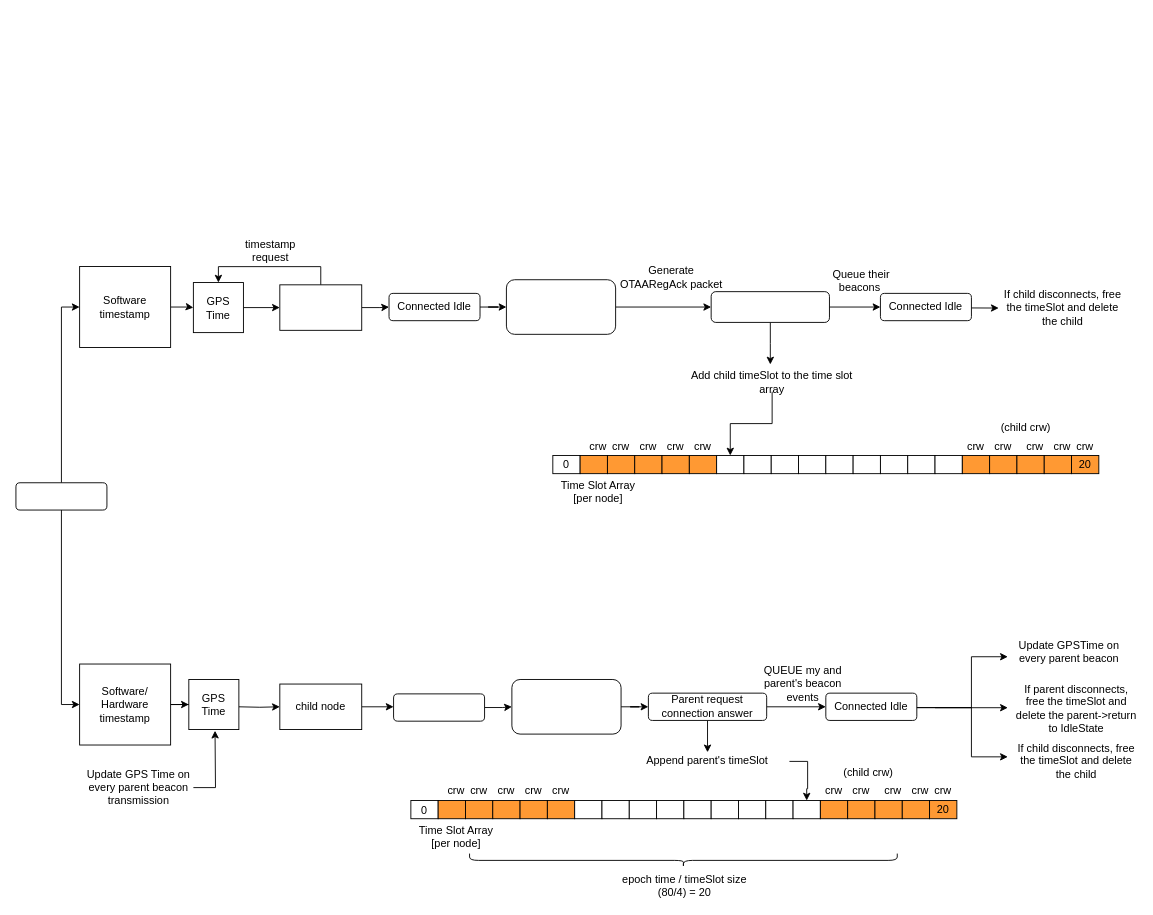
The diagram is 1153 pixels wide and 915 high, and some of its shapes have lost their labels. Here are the shapes that lost their labels. From the top down, the box of each, then its label:
(279, 284, 362, 330): hardcoded parent
(506, 279, 616, 334): Process of connecting a new child
(710, 291, 829, 322): Transmitting (OTAARegAck) Beacon
(15, 482, 107, 510): Initialisation
(393, 693, 485, 721): Idle state
(511, 679, 621, 734): Process of finding a new parent
